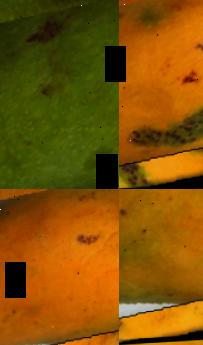PartiallyRipe: (119, 189, 203, 341)
Ripe: (0, 189, 119, 345), (119, 0, 203, 189)
Unripe: (0, 0, 119, 189)
